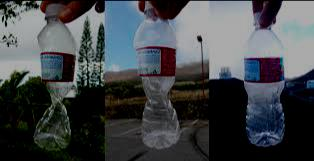Plastic: (34, 5, 74, 149)
